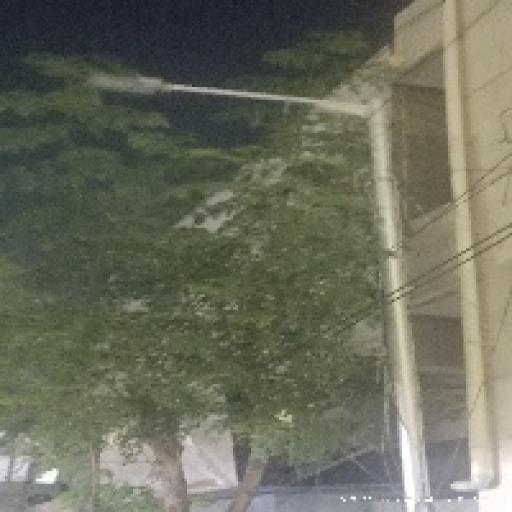Not Working: (74, 59, 180, 107)
